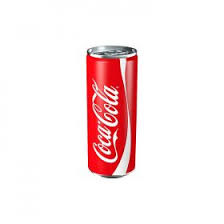can: (84, 44, 141, 181)
